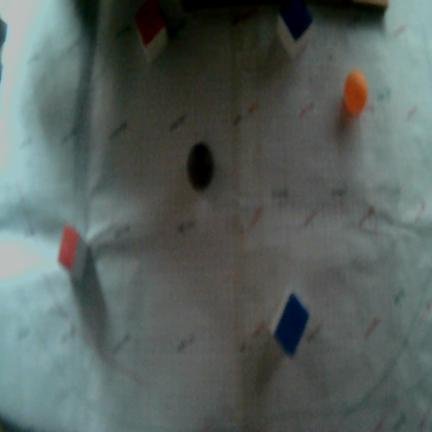circle_blue: (187, 144, 214, 192)
circle_orange: (344, 71, 368, 115), (345, 72, 368, 114)
rectangle_blue: (274, 291, 309, 357)
rectangle_orange: (57, 225, 79, 273)
square_blue: (281, 0, 313, 42)
square_orange: (135, 0, 164, 46)
